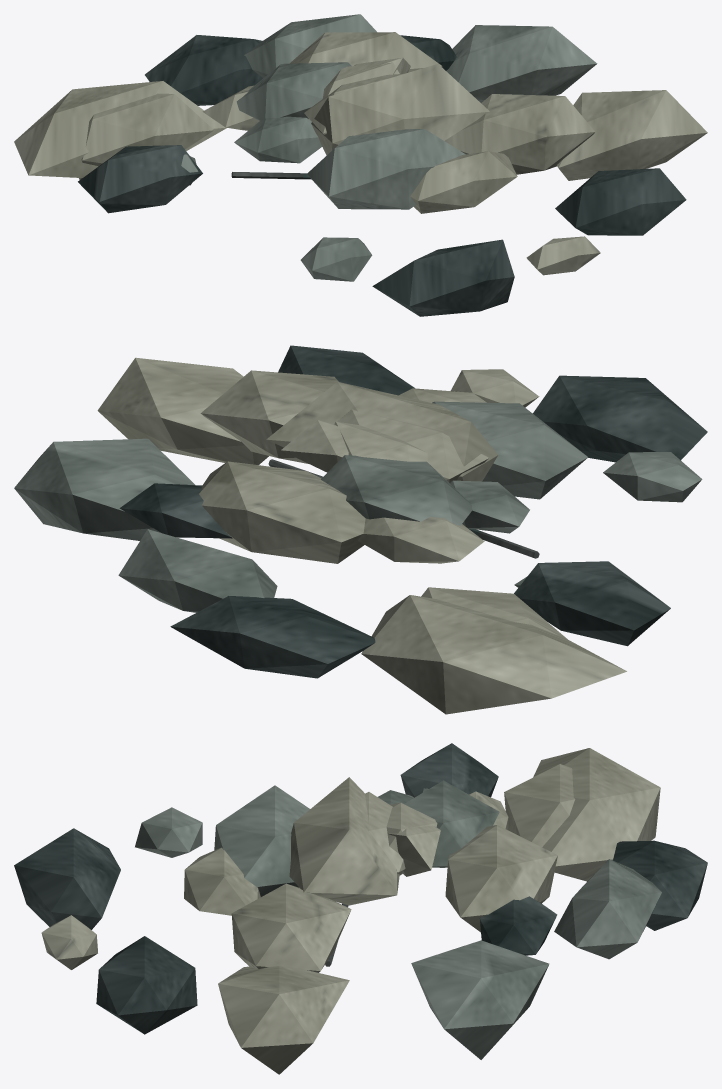
The model's file is 0110_scree_pile_10.glb.
3 views of the same model, one above another, from view 1: azimuth 30°, elevation 25°; view 2: azimuth 150°, elevation 25°; view 3: azimuth 270°, elevation 25° (orthographic). The views are drawn at different scales.
Parts seen in each view (by area): view 1: stone_light, stone, stone_dark, iron; view 2: stone_light, stone, stone_dark, iron; view 3: stone_light, stone, stone_dark.
Boxes of the visible parts, x1,y1,x2,y2 form: stone_light: (14, 32, 707, 275); stone: (181, 14, 597, 281); stone_dark: (78, 35, 686, 316); iron: (231, 172, 311, 179); stone_light: (97, 357, 626, 714); stone: (14, 401, 702, 612); stone_dark: (119, 345, 707, 678); iron: (268, 459, 539, 558); stone_light: (41, 748, 660, 1074); stone: (135, 780, 661, 1059); stone_dark: (14, 743, 707, 1034).
Bounding box in the file's own units: 3.07 × 0.7258 × 3.03.
4 materials, 4 textured.
